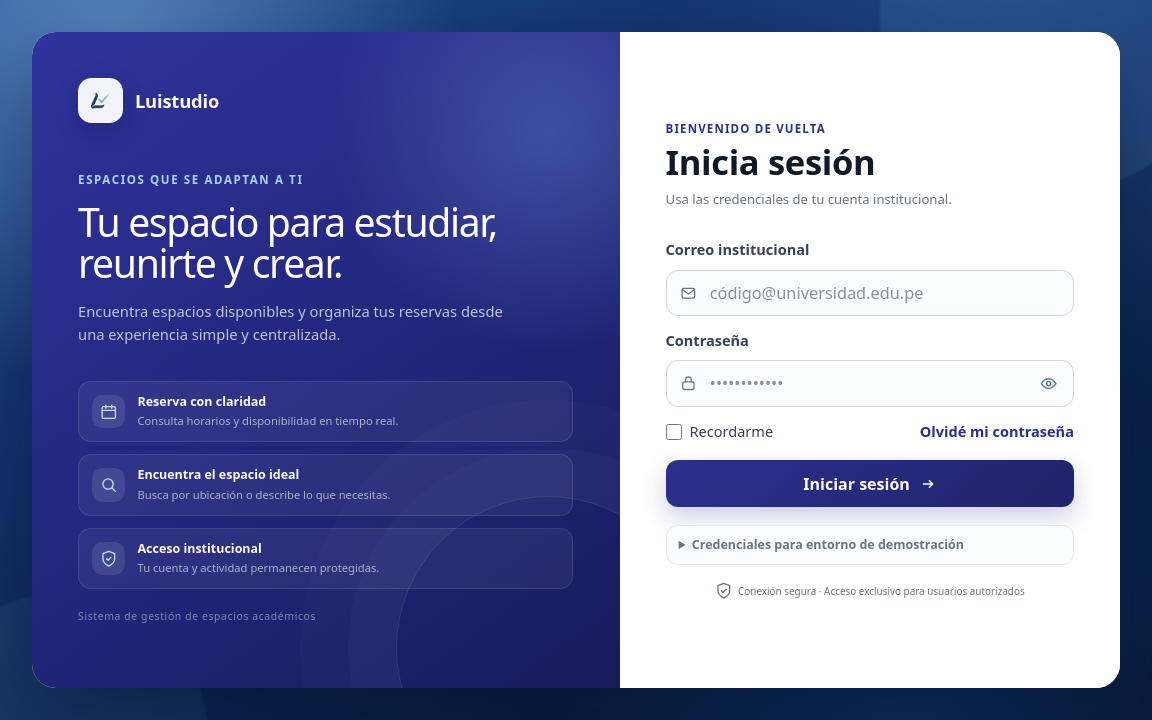
Vista crítica: Reservas (estudiante) › tras un login exitoso, renderiza la vista de Reservas con datos simulados vía HTTP mockeado
The image size is (1152, 720).
In the field labelled "Correo institucional": {"x": 870, "y": 293} [666, 270, 1074, 316], type "20224692@aloe.ulima.edu.pe"
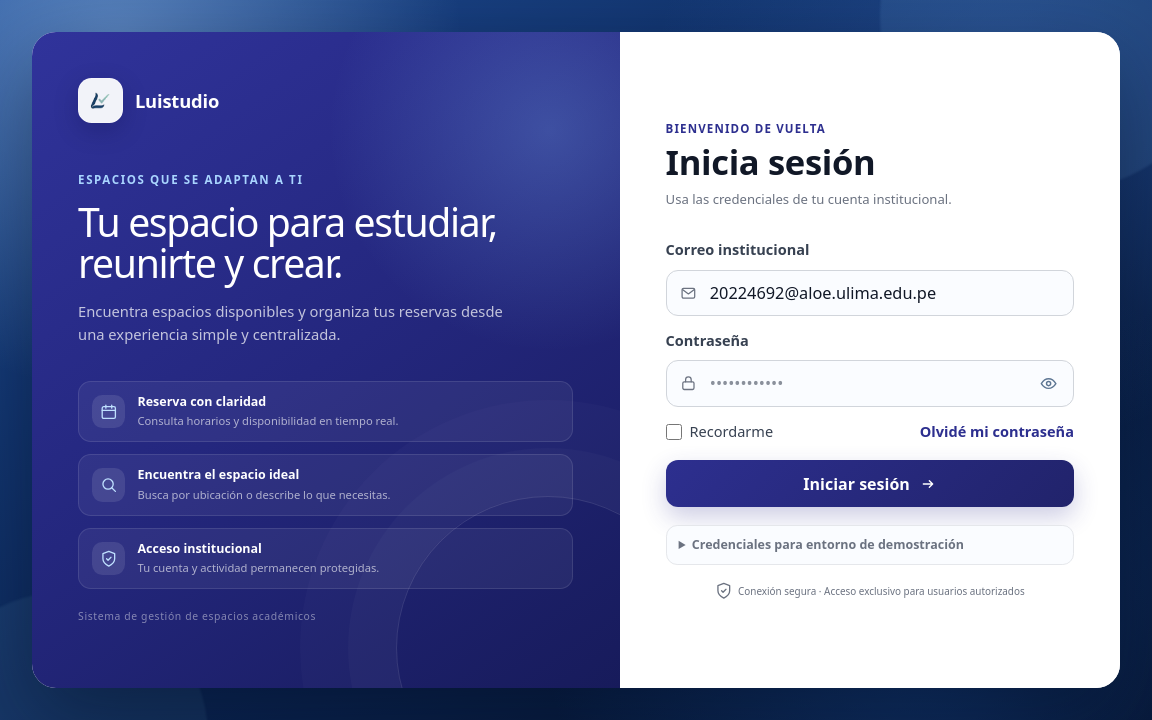
In the password field labelled "Contraseña": {"x": 870, "y": 384} [666, 360, 1074, 407], type "Student123!"
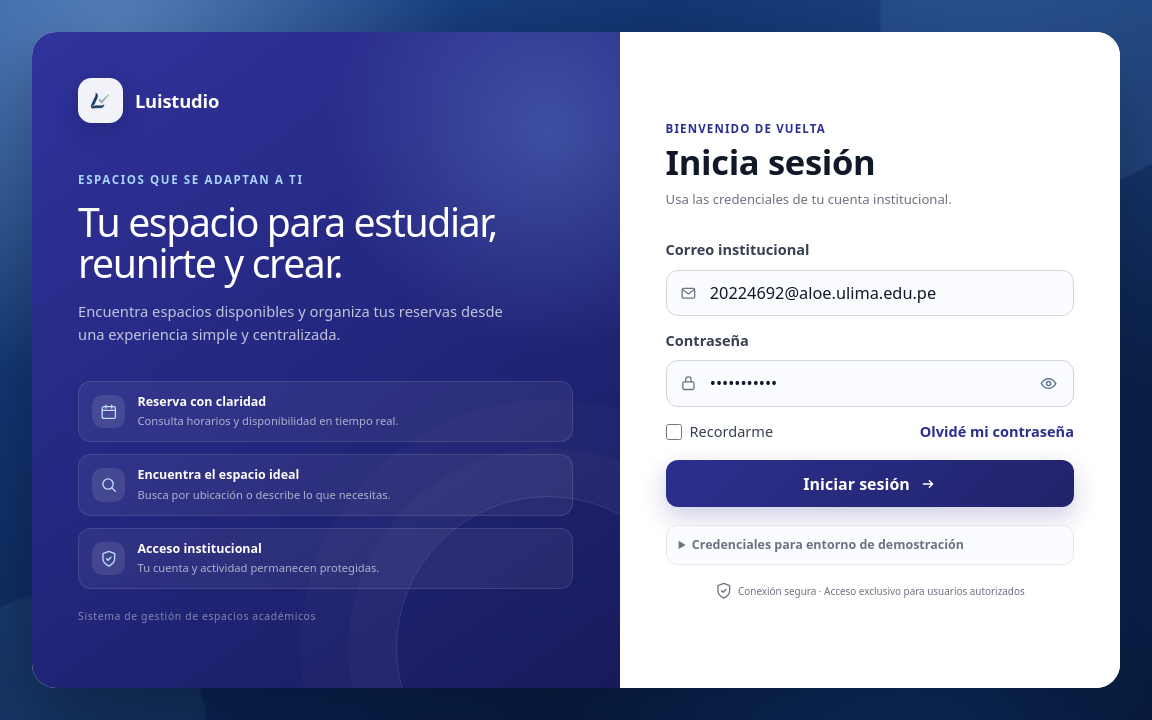
Click the button "Iniciar sesión": {"x": 870, "y": 484} [666, 460, 1074, 507]
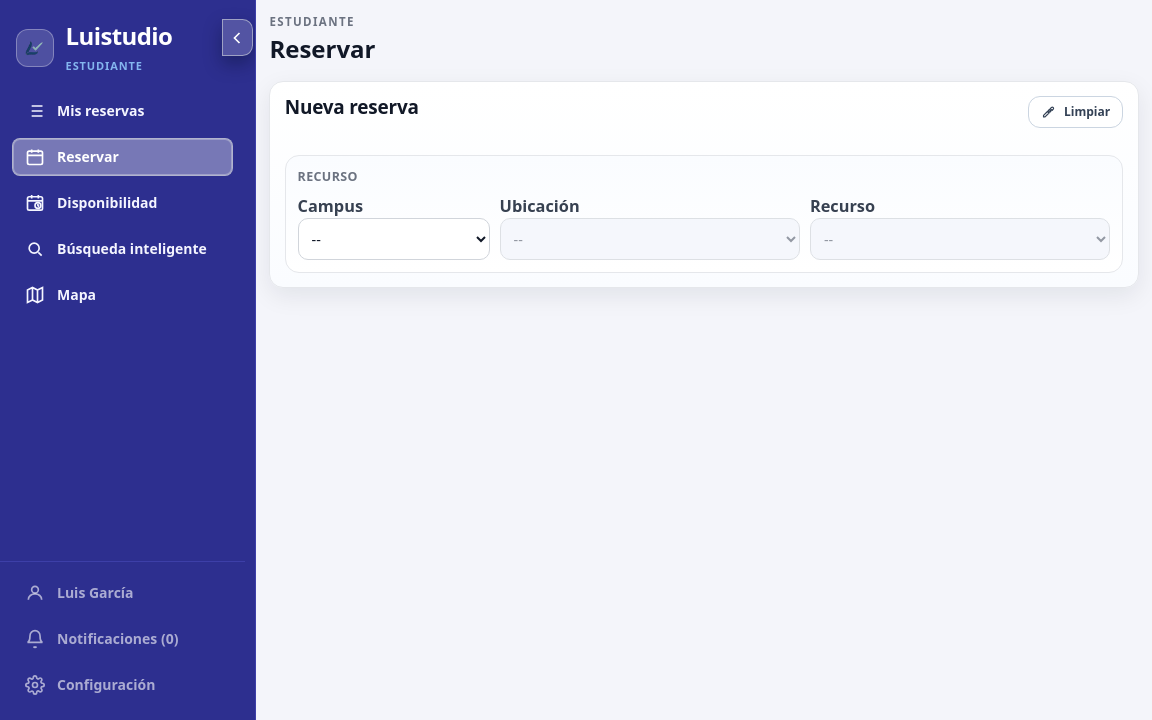
Now the heading "Reservar" is shown, box [269, 33, 376, 65]
